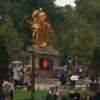Statue: (14, 5, 66, 63)
